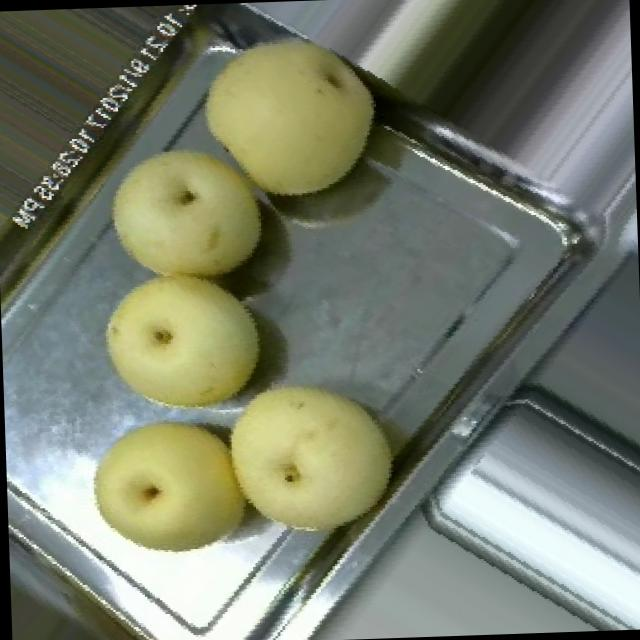Fruit: (167, 0, 403, 231), (74, 111, 290, 314), (208, 363, 412, 554), (80, 258, 284, 430), (75, 406, 262, 574)
